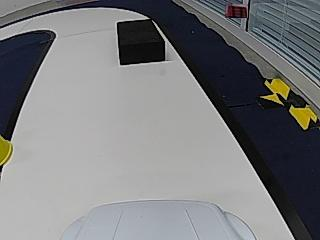block: (116, 18, 165, 64)
cone: (0, 136, 13, 165)
